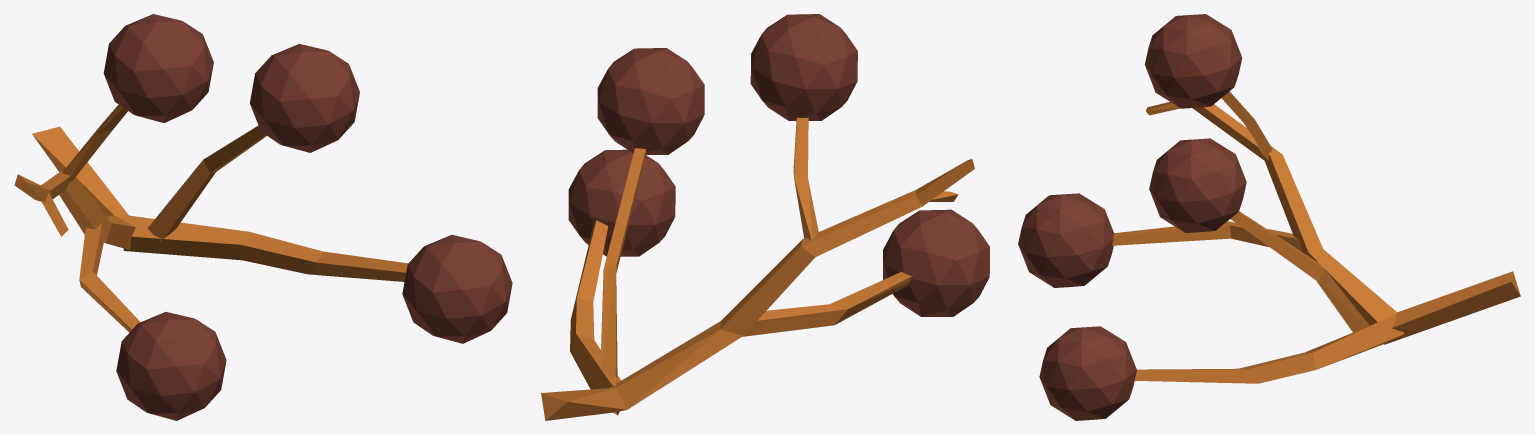
File: basswoodSeed.glb
3 views of the same model, side by side, from view 1: azimuth 30°, elevation 25°; view 2: azimuth 150°, elevation 25°; view 3: azimuth 270°, elevation 25° (orthographic). The views are drawn at different scales.
Parts seen in each view (by area): view 1: basswoodSeed, Icosphere, Icosphere.003, Icosphere.001, Icosphere.002; view 2: basswoodSeed, Icosphere.002, Icosphere.001, Icosphere.003, Icosphere; view 3: basswoodSeed, Icosphere.001, Icosphere, Icosphere.002, Icosphere.003.
Part boxes in pixels (left/top/right/bottom): basswoodSeed: left=14, top=104, right=407, bottom=332; Icosphere: left=402, top=234, right=512, bottom=343; Icosphere.003: left=116, top=312, right=226, bottom=420; Icosphere.001: left=250, top=44, right=359, bottom=152; Icosphere.002: left=103, top=14, right=213, bottom=122; basswoodSeed: left=541, top=117, right=974, bottom=420; Icosphere.002: left=750, top=14, right=857, bottom=120; Icosphere.001: left=597, top=48, right=704, bottom=154; Icosphere.003: left=883, top=209, right=989, bottom=316; Icosphere: left=568, top=149, right=675, bottom=256; basswoodSeed: left=1112, top=91, right=1520, bottom=383; Icosphere.001: left=1149, top=138, right=1246, bottom=232; Icosphere: left=1039, top=326, right=1136, bottom=420; Icosphere.002: left=1144, top=14, right=1242, bottom=108; Icosphere.003: left=1018, top=193, right=1114, bottom=287.
Bounding box in the file's own units: 3.1 × 2.24 × 3.45.
